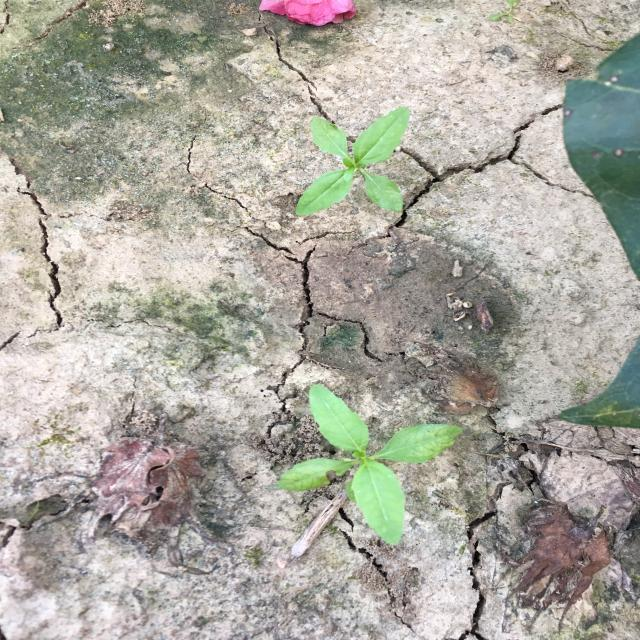Eclipta: (264, 382, 465, 548), (293, 105, 413, 219)
